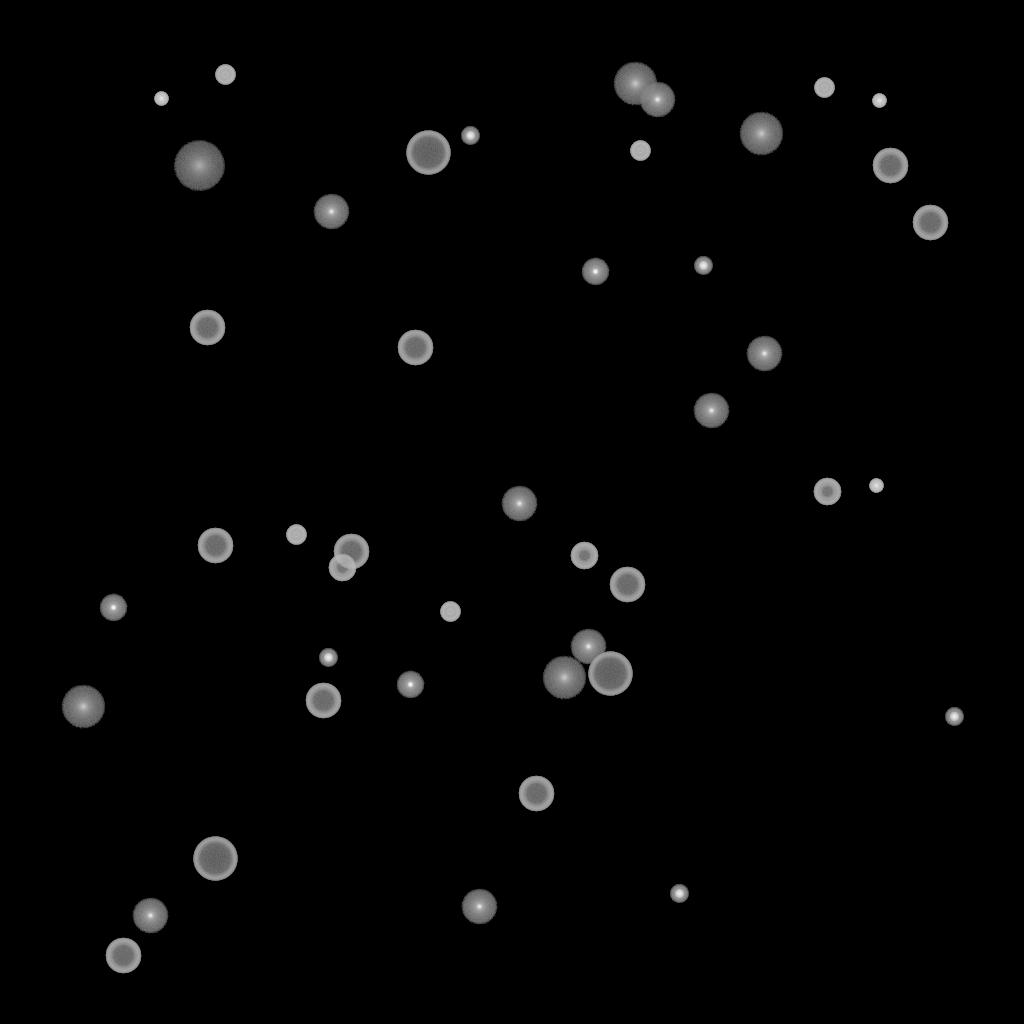depth:-10: (99, 594, 127, 622), (396, 671, 424, 699), (581, 258, 609, 286)
depth:-20: (694, 257, 712, 275), (945, 708, 963, 726), (670, 885, 688, 903), (461, 127, 479, 145), (319, 649, 337, 667)
depth:-30: (869, 479, 883, 493), (154, 92, 168, 106), (872, 94, 886, 108)
depth:-40: (440, 602, 460, 622), (215, 65, 235, 85), (286, 525, 306, 545), (814, 78, 834, 98), (630, 141, 650, 161)
depth:-50: (570, 542, 598, 570), (813, 478, 841, 506), (328, 554, 356, 582)
depth:-60: (333, 534, 369, 570), (197, 528, 233, 564), (912, 205, 948, 241), (189, 310, 225, 346), (872, 148, 908, 184), (105, 938, 141, 974), (305, 683, 341, 719), (609, 567, 645, 603), (518, 776, 554, 812), (397, 330, 433, 366)
depth:-70: (193, 837, 237, 881), (588, 652, 632, 696), (406, 131, 450, 175)
depth:0: (639, 82, 675, 118), (313, 194, 349, 230), (693, 393, 729, 429), (570, 629, 606, 665), (461, 889, 497, 925), (501, 486, 537, 522), (746, 336, 782, 372), (132, 898, 168, 934)
depth:10: (613, 62, 657, 106), (542, 656, 586, 700), (61, 685, 105, 729), (739, 112, 783, 156)
depth:20: (173, 141, 225, 191)
